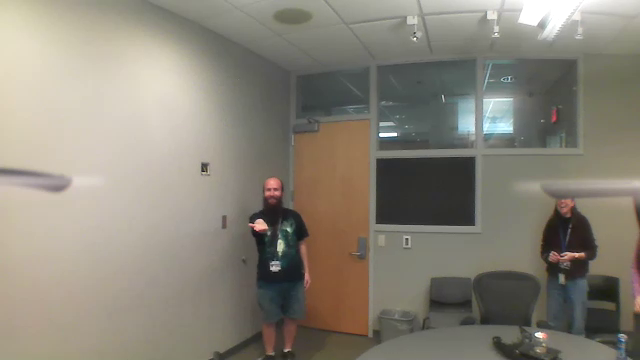land: (246, 218, 277, 237)
